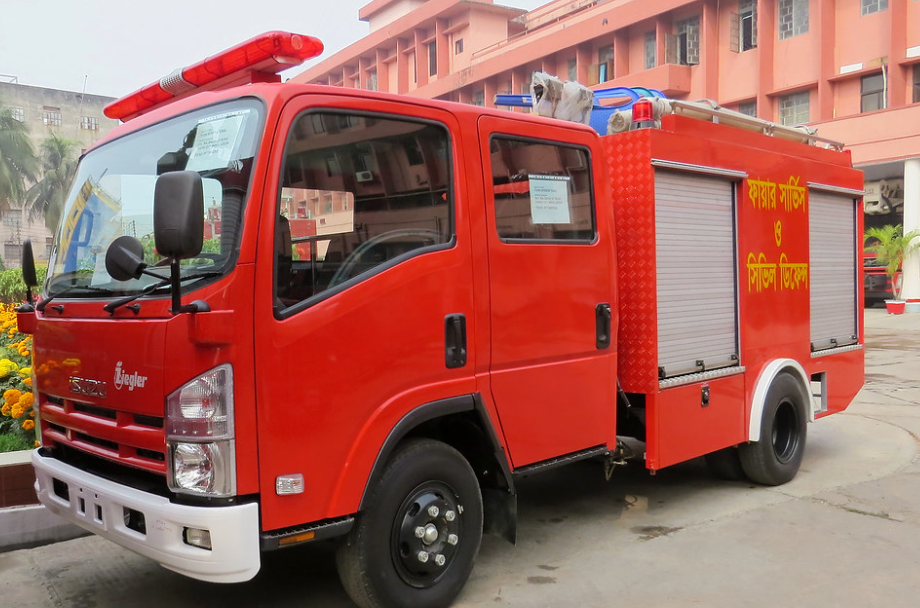Fire truck: (36, 18, 875, 602)
